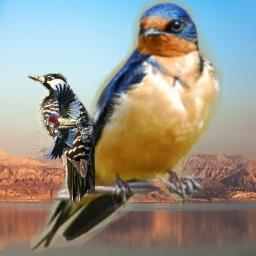Swallow: (30, 0, 223, 253)
Woodpecker: (27, 73, 95, 208), (44, 83, 93, 160)
